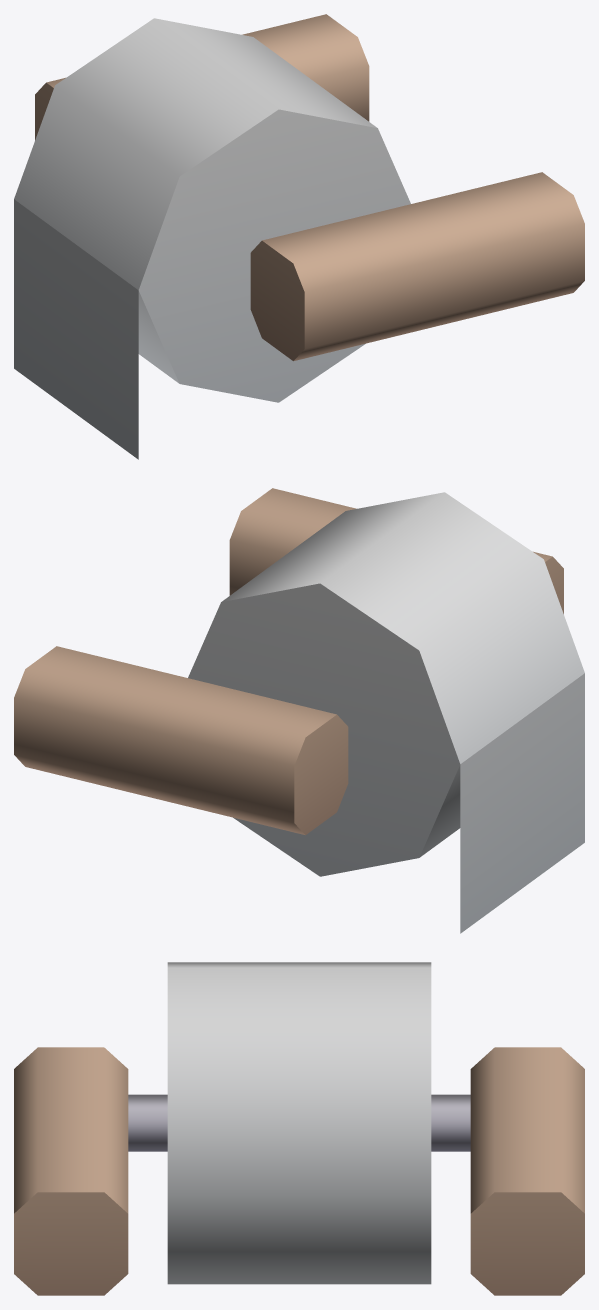
Rendered from toilet-paper-holder (%wall).glb.
3 views of the same model, one above another, from view 1: azimuth 30°, elevation 25°; view 2: azimuth 150°, elevation 25°; view 3: azimuth 270°, elevation 25° (orthographic). The views are drawn at different scales.
Visible parts, largest first — view 1: toilet-paper-holder (%wall); view 2: toilet-paper-holder (%wall); view 3: toilet-paper-holder (%wall).
Boxes of the visible parts, <box> form: toilet-paper-holder (%wall): <box>14,14,584,459</box>; toilet-paper-holder (%wall): <box>14,488,584,933</box>; toilet-paper-holder (%wall): <box>14,962,584,1295</box>.
Size of the model in its own units: 0.1915 by 0.1548 by 0.2394.
